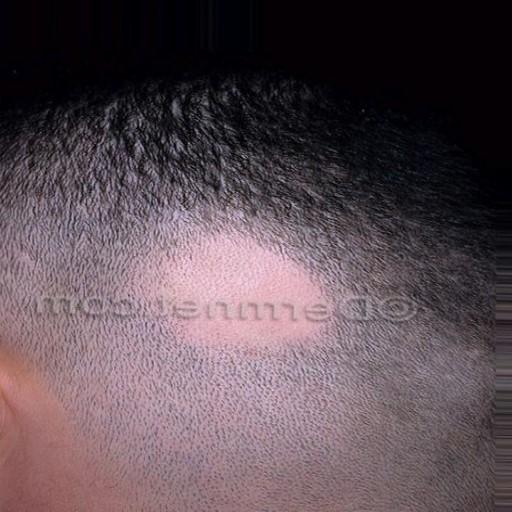Alopecia Areata: (140, 203, 338, 351)
